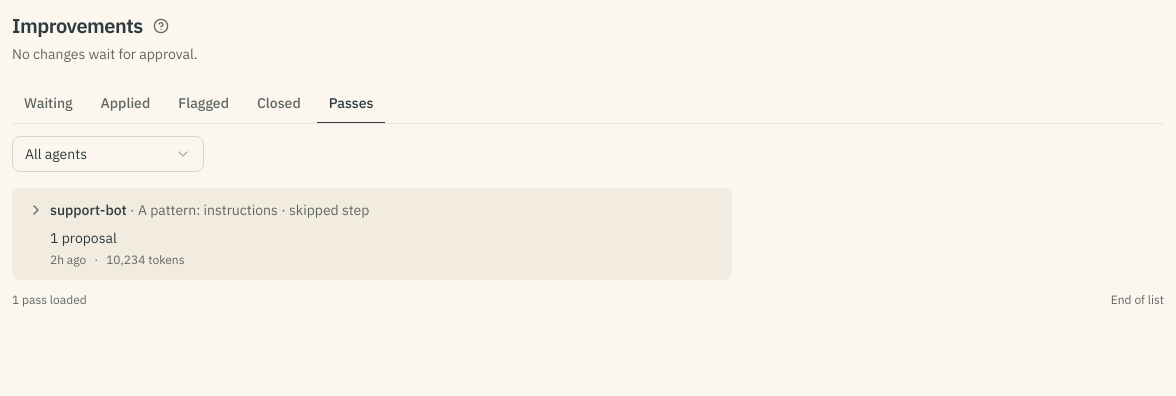
Scenario: a pass › says a report is withheld when it draws on a conversation the reader can't read
Click the button "support-bot · A pattern: instructions · skipped step": x=372, y=210 24,200 -> 720,220
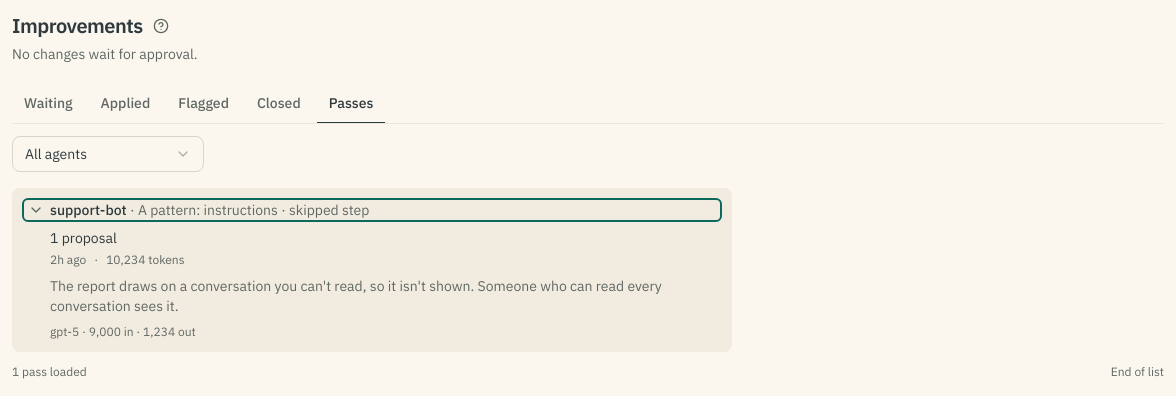
Check: the text "The report draws on a conversation you can't read, so it isn't shown." is shown, box 50,277 -> 662,315
